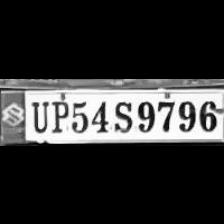4: (88, 96, 108, 132)
5: (68, 96, 88, 132)
6: (196, 97, 218, 131)
7: (155, 97, 175, 131)
9: (133, 97, 155, 131), (174, 97, 196, 131)
P: (48, 96, 68, 132)
S: (109, 97, 133, 131)
U: (27, 97, 49, 132)
